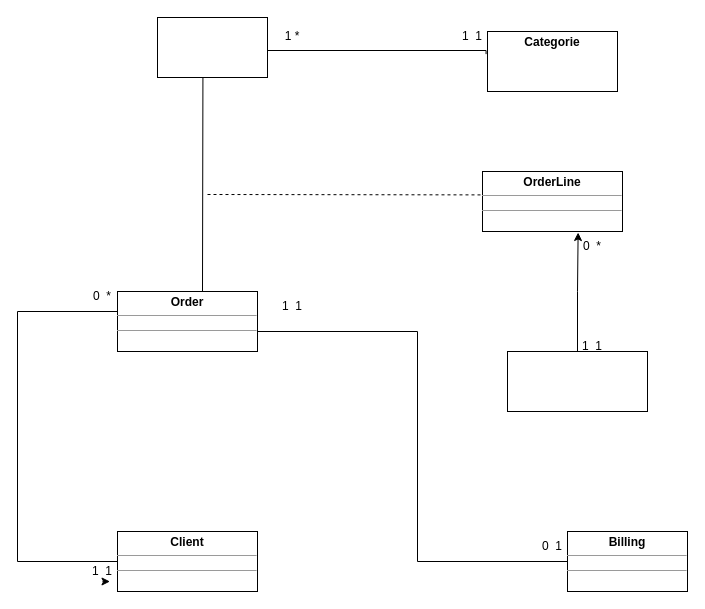
Image size: 705x609. Some labels were removed from this diagram. The shapes that lost their labels are listed below. From the top down, each one's centre as x and y in pixels, then its label:
point 212,47: Product
point 577,381: Caddy
